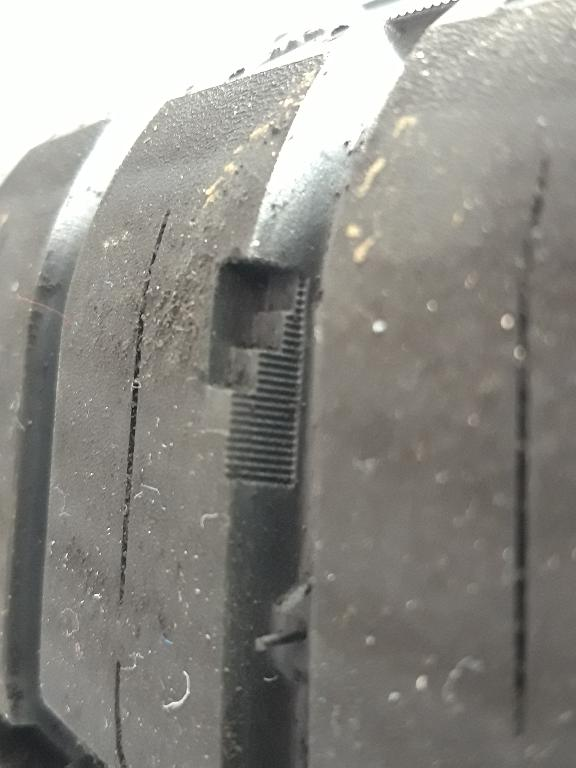temoin:75: (184, 238, 326, 452)
